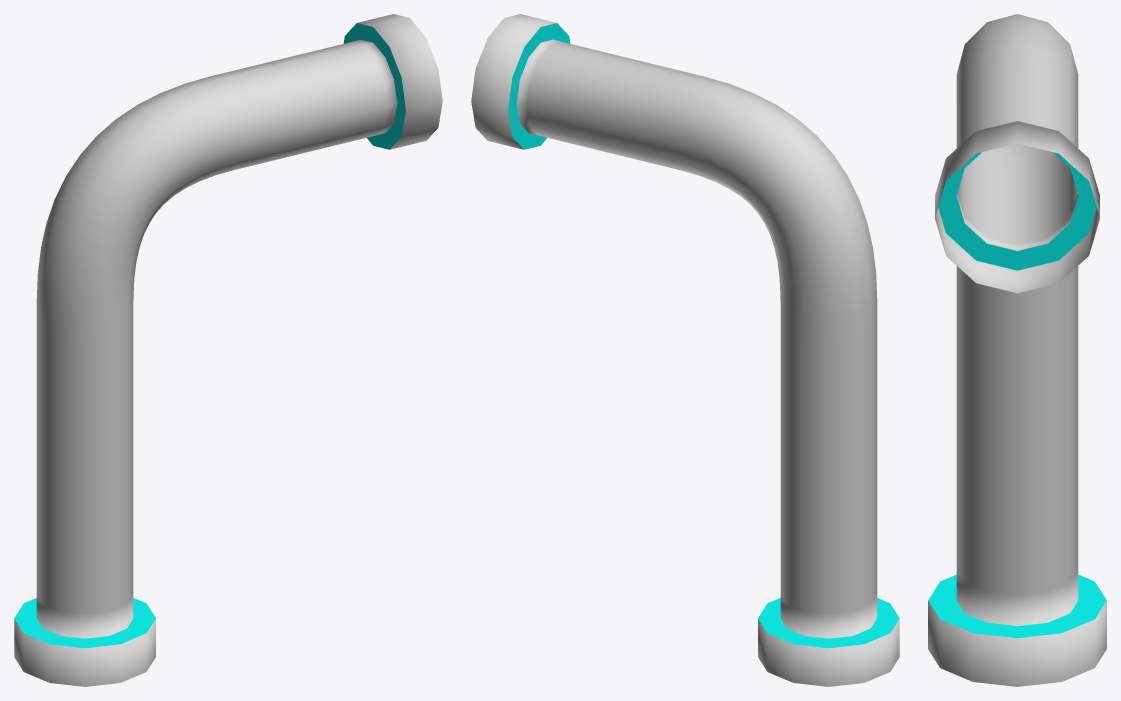
File: BuildingP2.fbx
The picture shows the model from 3 angles, left to right: view 1: azimuth 30°, elevation 25°; view 2: azimuth 150°, elevation 25°; view 3: azimuth 270°, elevation 25°; orthographic projection. The views are drawn at different scales.
Parts seen in each view (by area): view 1: P2; view 2: P2; view 3: P2.
Boxes of the visible parts, x1,y1,x2,y2 form: P2: (14,14,442,686); P2: (471,14,899,686); P2: (928,14,1106,686).
Size of the model in its own units: 563 by 779 by 179.
